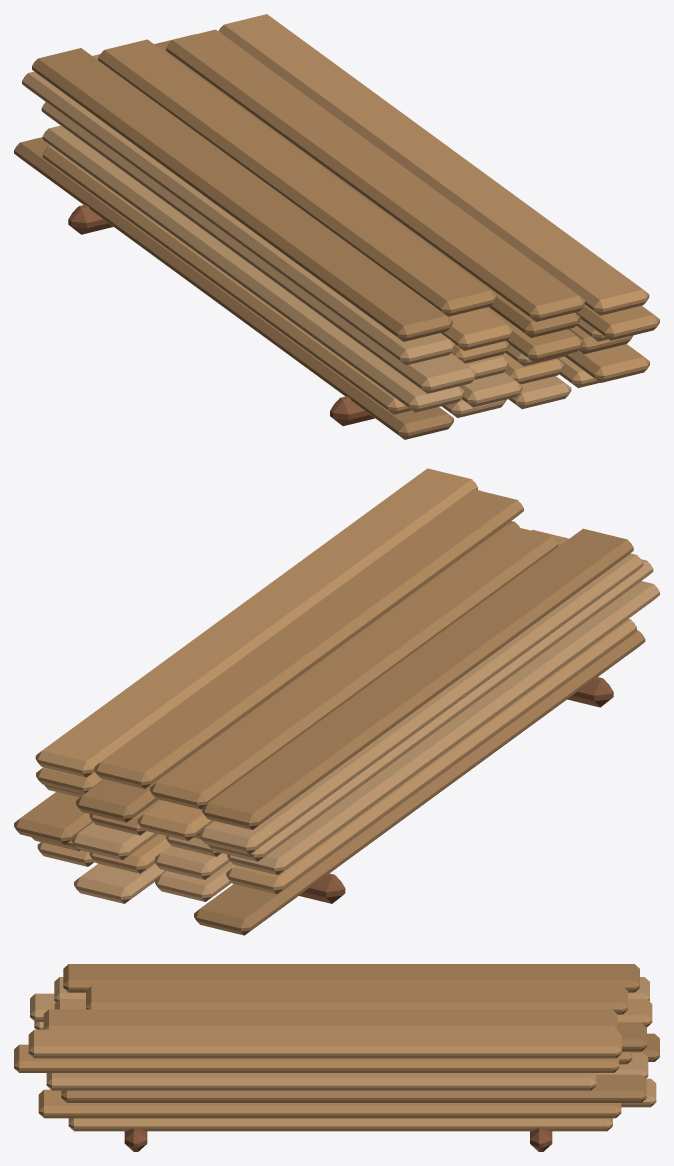
Rendered from planks.glb.
3 views of the same model, one above another, from view 1: azimuth 30°, elevation 25°; view 2: azimuth 150°, elevation 25°; view 3: azimuth 270°, elevation 25° (orthographic). The views are drawn at different scales.
Visible parts, largest first — view 1: body; view 2: body; view 3: body.
Boxes of the visible parts, bbox=[...] form: body: bbox=[14, 14, 659, 439]; body: bbox=[14, 468, 659, 935]; body: bbox=[14, 964, 659, 1151].
Size of the model in its own units: 1.1 by 0.48 by 2.87.
